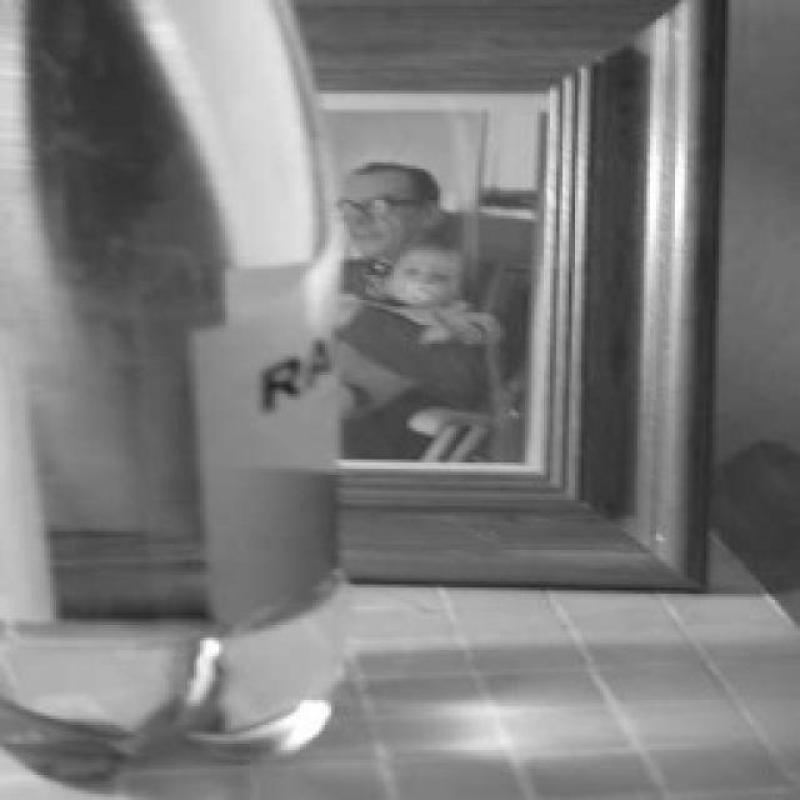botella: (0, 0, 348, 788)
